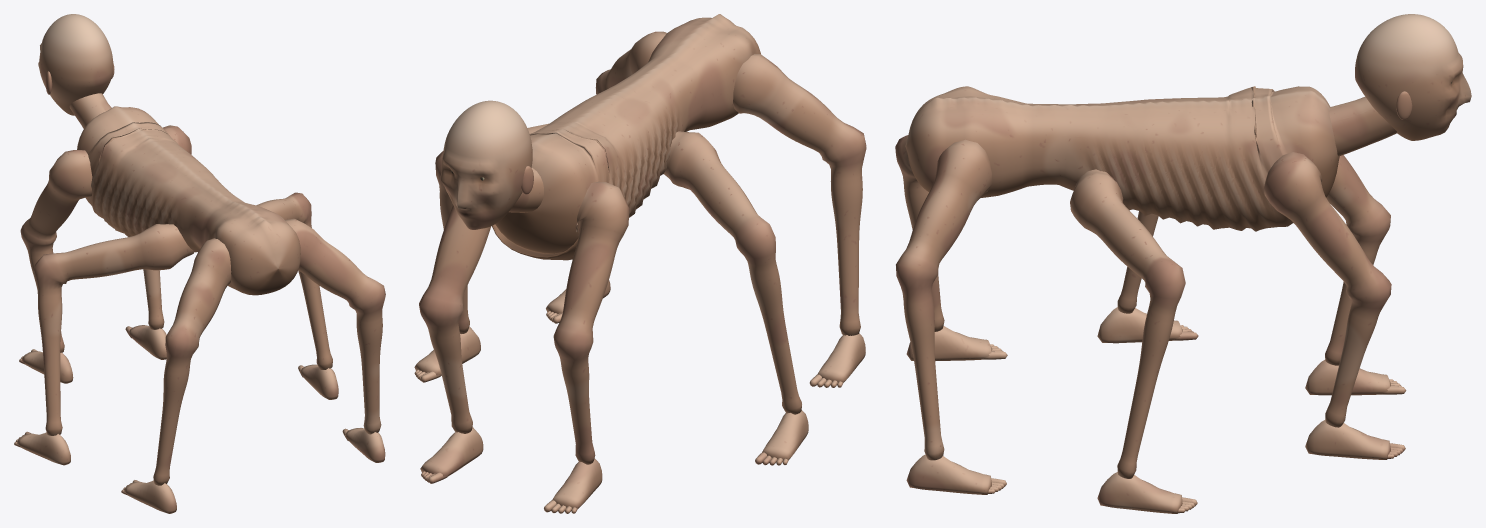
The picture shows the model from 3 angles, left to right: view 1: azimuth 30°, elevation 25°; view 2: azimuth 150°, elevation 25°; view 3: azimuth 270°, elevation 25°; orthographic projection. The views are drawn at different scales.
Bounding box in the file's own units: 1.53 × 1.55 × 1.99.
Materials: 1 (1 with a texture image).
